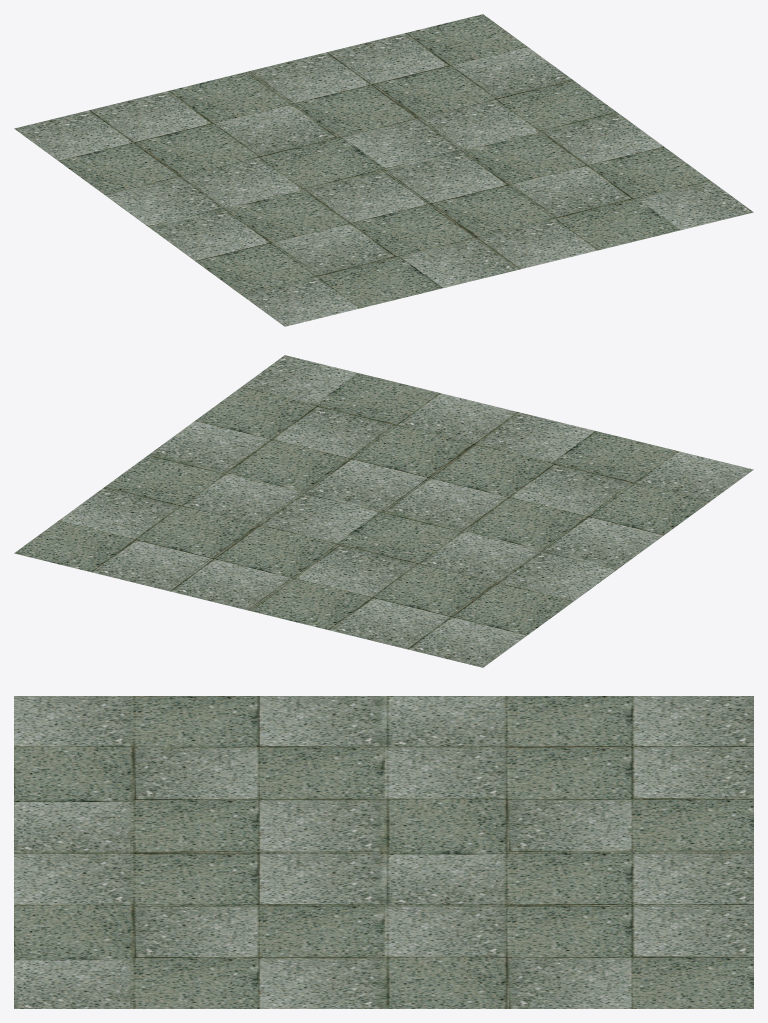
Rendered from blockA.FBX.
3 views of the same model, one above another, from view 1: azimuth 30°, elevation 25°; view 2: azimuth 150°, elevation 25°; view 3: azimuth 270°, elevation 25° (orthographic). The views are drawn at different scales.
Visible parts, largest first — view 1: Box001; view 2: Box001; view 3: Box001.
Part boxes in pixels (bbox=[...]): Box001: bbox=[14, 14, 753, 326]; Box001: bbox=[14, 355, 753, 667]; Box001: bbox=[14, 696, 753, 1008].
Bounding box in the file's own units: 40 × 0.5824 × 40.
